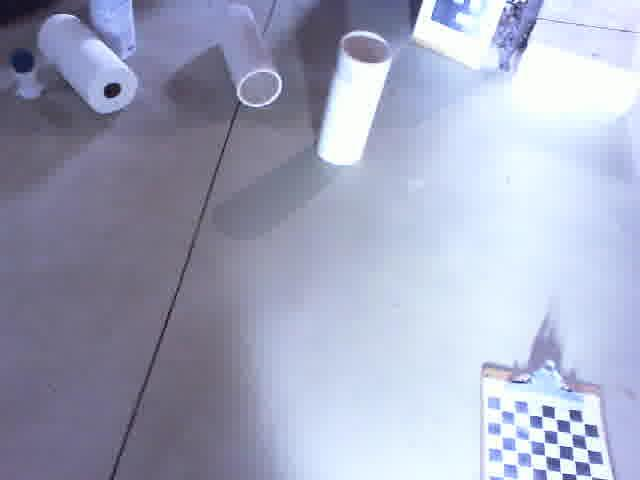coral: (36, 15, 140, 113), (319, 31, 393, 167), (210, 0, 283, 107)
